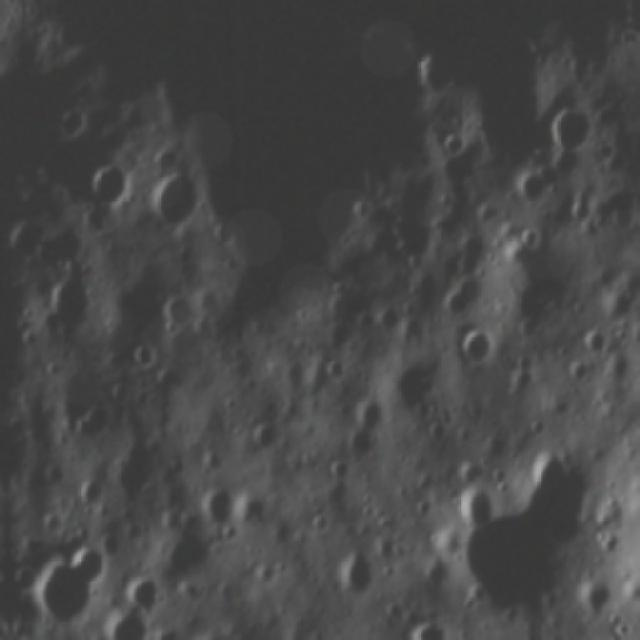crater: (429, 439, 623, 636), (26, 537, 114, 632), (106, 424, 176, 513), (137, 161, 209, 233), (380, 347, 451, 419), (326, 540, 394, 608), (541, 96, 602, 161), (0, 209, 57, 277), (435, 268, 494, 329), (78, 154, 136, 215), (448, 480, 506, 534), (507, 162, 558, 212), (455, 322, 500, 373), (99, 607, 165, 640), (193, 486, 238, 534), (126, 572, 169, 614), (248, 413, 286, 458), (399, 612, 467, 637), (52, 102, 91, 144), (432, 126, 471, 165), (556, 354, 593, 394), (181, 621, 258, 640), (581, 322, 613, 360), (10, 635, 44, 640)
